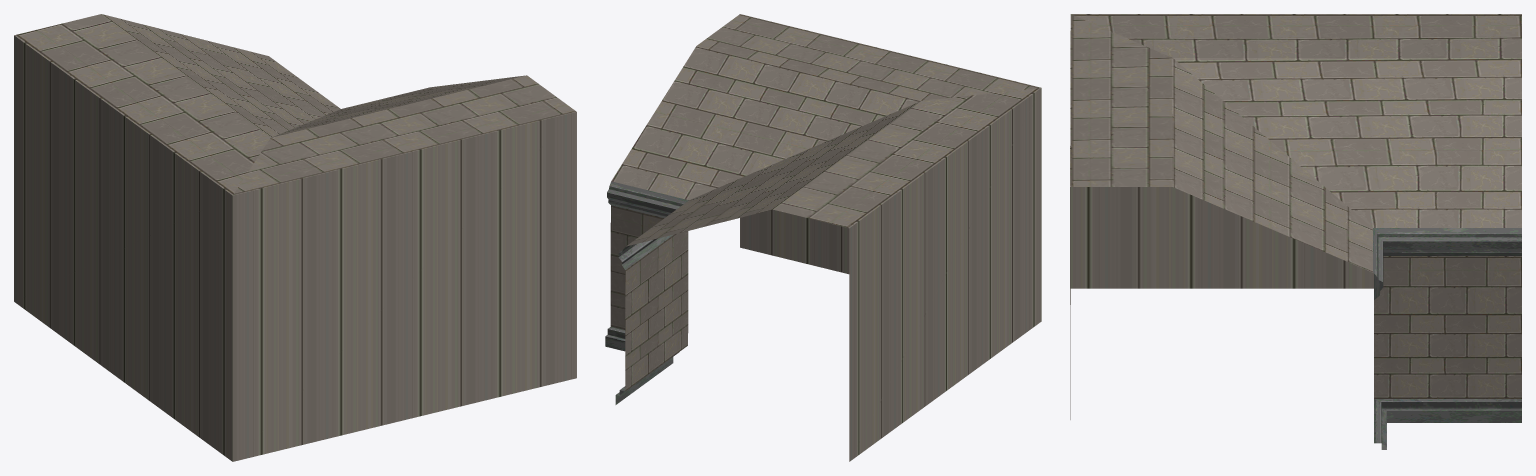
File: h5_qiangjiao.FBX
The picture shows the model from 3 angles, left to right: view 1: azimuth 30°, elevation 25°; view 2: azimuth 150°, elevation 25°; view 3: azimuth 270°, elevation 25°; orthographic projection. The views are drawn at different scales.
Parts seen in each view (by area): view 1: h5_qiangjiao; view 2: h5_qiangjiao; view 3: h5_qiangjiao.
Boxes of the visible parts, left/top/right/bottom form: h5_qiangjiao: left=14, top=14, right=576, bottom=461; h5_qiangjiao: left=605, top=14, right=1041, bottom=461; h5_qiangjiao: left=1070, top=14, right=1521, bottom=449.
Bounding box in the file's own units: 15.14 × 11.22 × 16.71.
